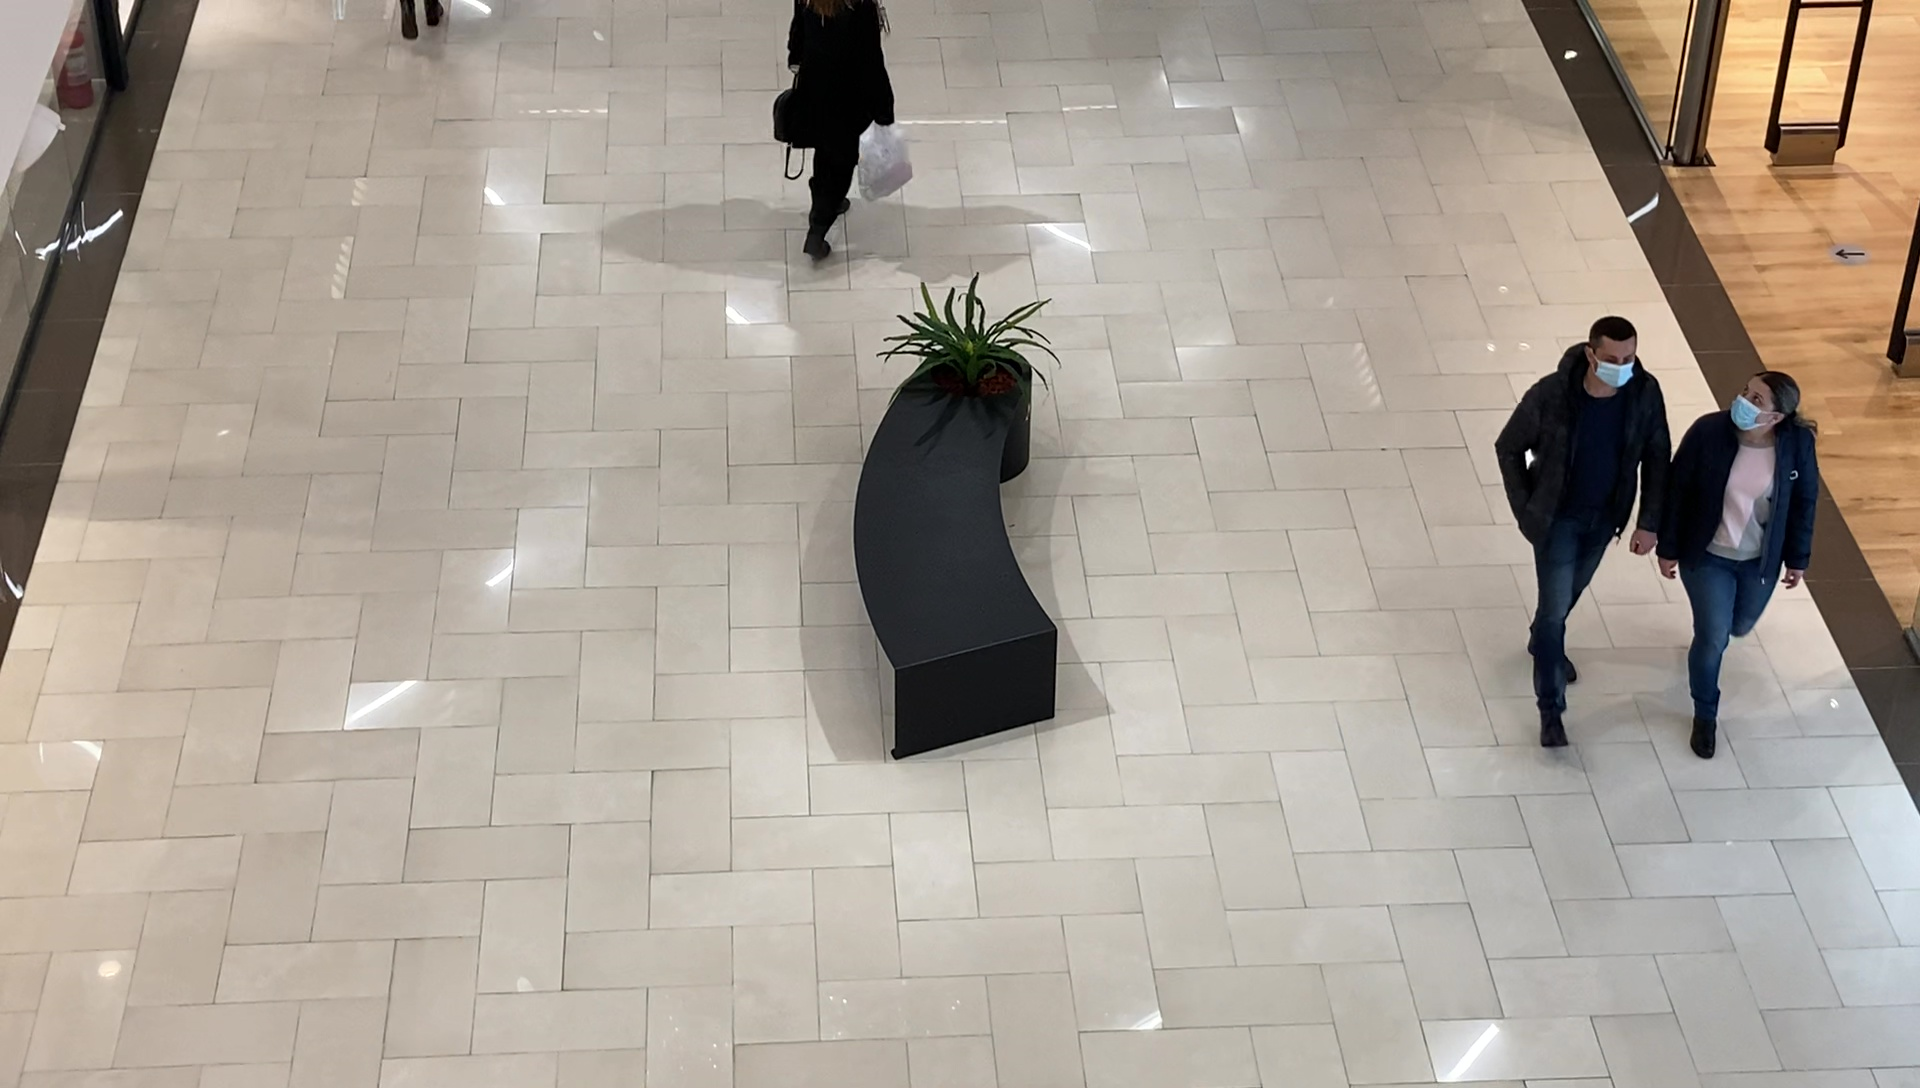person: (1498, 317, 1665, 753), (1668, 371, 1817, 761), (775, 3, 905, 262)
